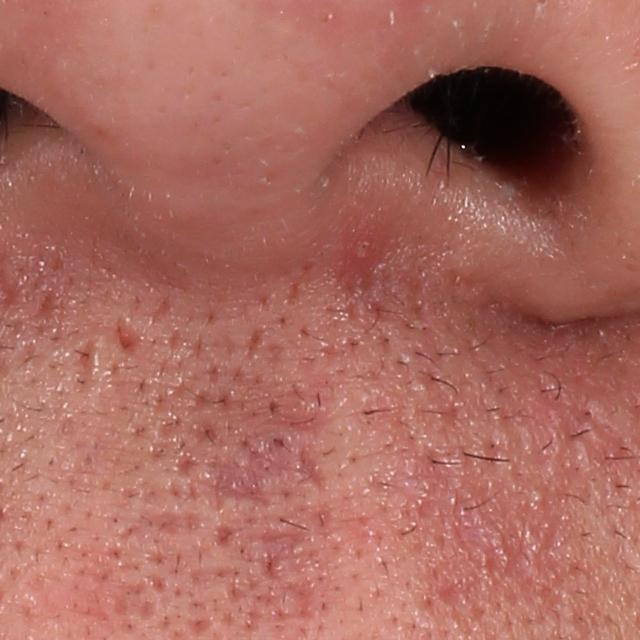atrophic_scar: (207, 445, 325, 513)
